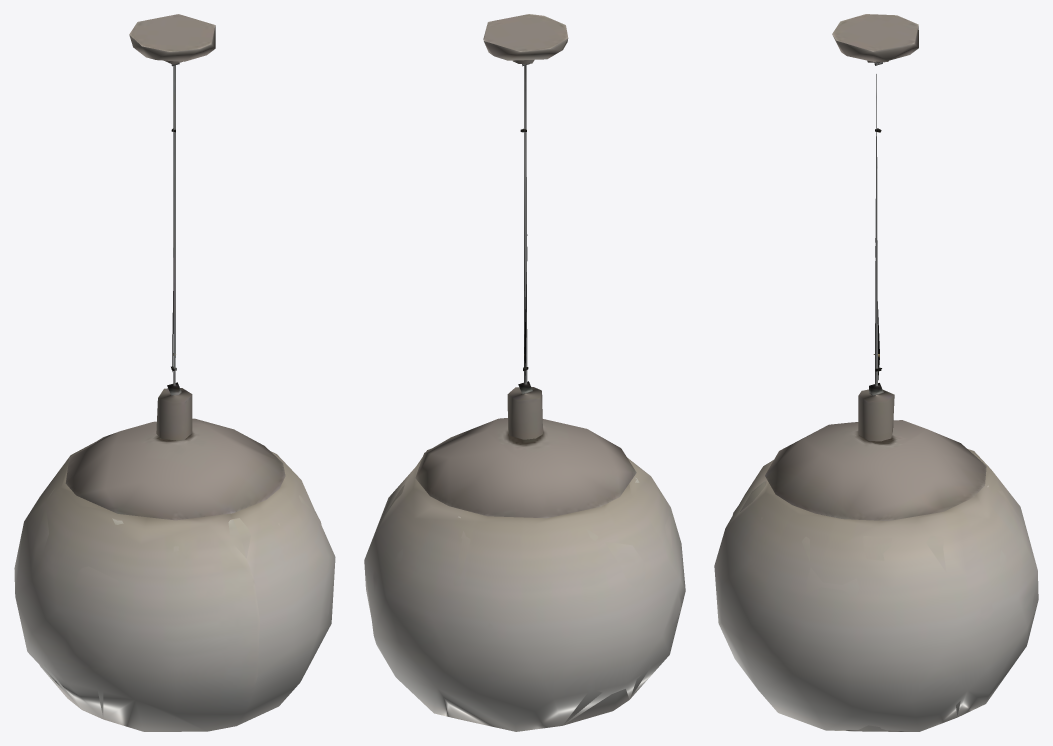
The model's file is pendant.low.glb.
3 renders of one model, left to right at view 1: azimuth 30°, elevation 25°; view 2: azimuth 150°, elevation 25°; view 3: azimuth 270°, elevation 25°, orthographic.
Visible parts, largest first — view 1: modern_ceiling_lamp_01; view 2: modern_ceiling_lamp_01; view 3: modern_ceiling_lamp_01.
Boxes of the visible parts, box(x1,y1,x2,y2) form: modern_ceiling_lamp_01: box(14, 14, 335, 731); modern_ceiling_lamp_01: box(364, 14, 685, 731); modern_ceiling_lamp_01: box(714, 14, 1038, 731).
Bounding box in the file's own units: 0.4287 × 0.9512 × 0.4279.
2 materials, 2 textured.
